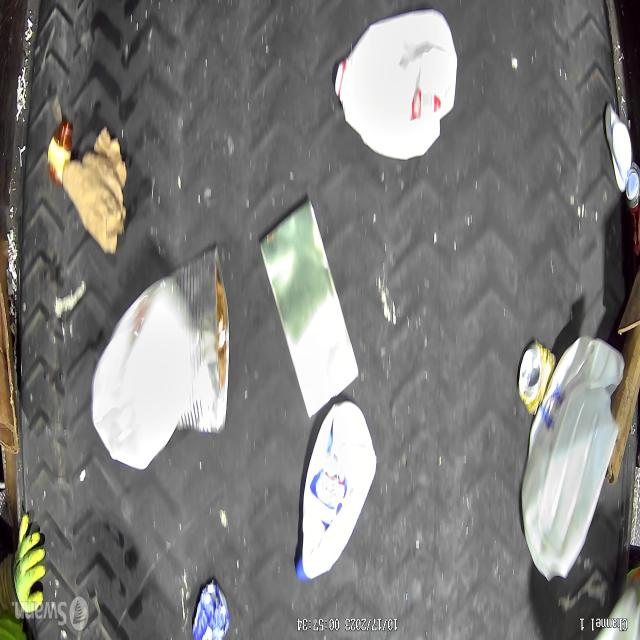can: (518, 338, 554, 416), (626, 164, 640, 254)
milk_jug: (522, 339, 625, 582), (331, 11, 457, 160), (91, 289, 192, 472), (294, 400, 378, 583)
